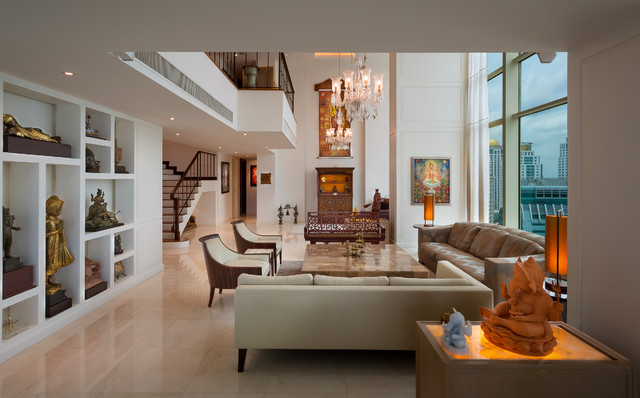chair: (231, 260, 495, 357), (415, 223, 550, 299), (200, 231, 268, 283), (307, 210, 384, 242), (233, 219, 288, 260)
